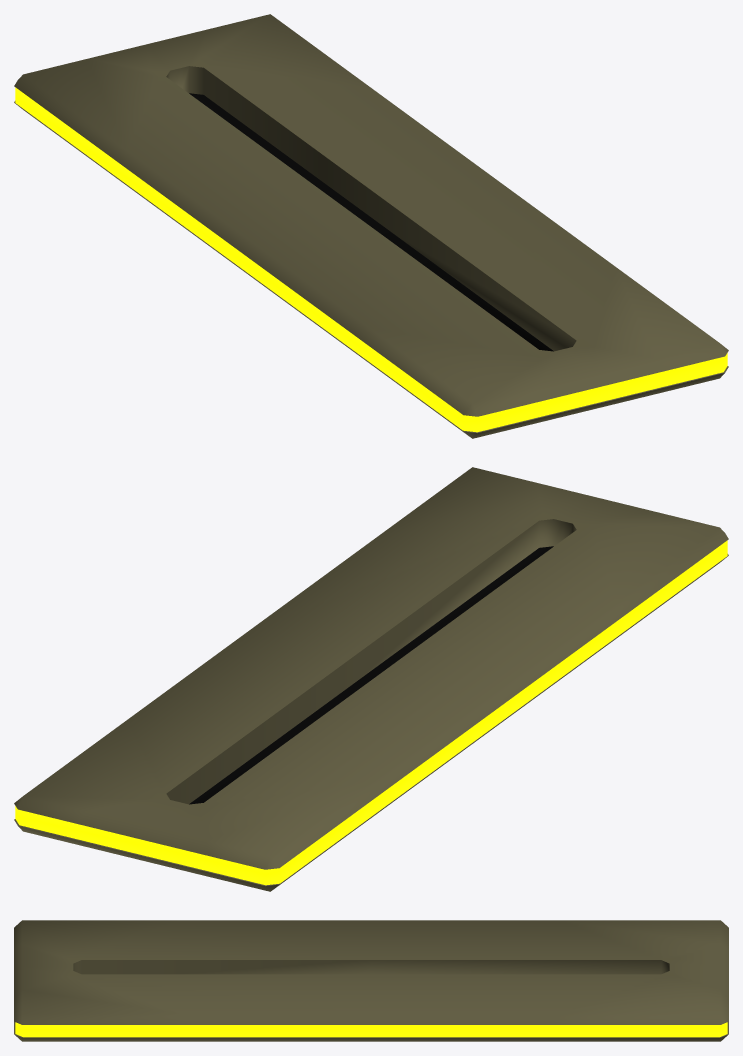
File: Hole.fbx
The picture shows the model from 3 angles, top to bottom: view 1: azimuth 30°, elevation 25°; view 2: azimuth 150°, elevation 25°; view 3: azimuth 270°, elevation 25°; orthographic projection. The views are drawn at different scales.
Parts seen in each view (by area): view 1: Material.Glow; view 2: Material.Glow; view 3: Material.Glow.
Part boxes in pixels (bbox=[...]): Material.Glow: bbox=[14, 14, 728, 438]; Material.Glow: bbox=[14, 467, 728, 891]; Material.Glow: bbox=[14, 920, 728, 1041].
Bounding box in the file's own units: 200 × 25.49 × 600.
